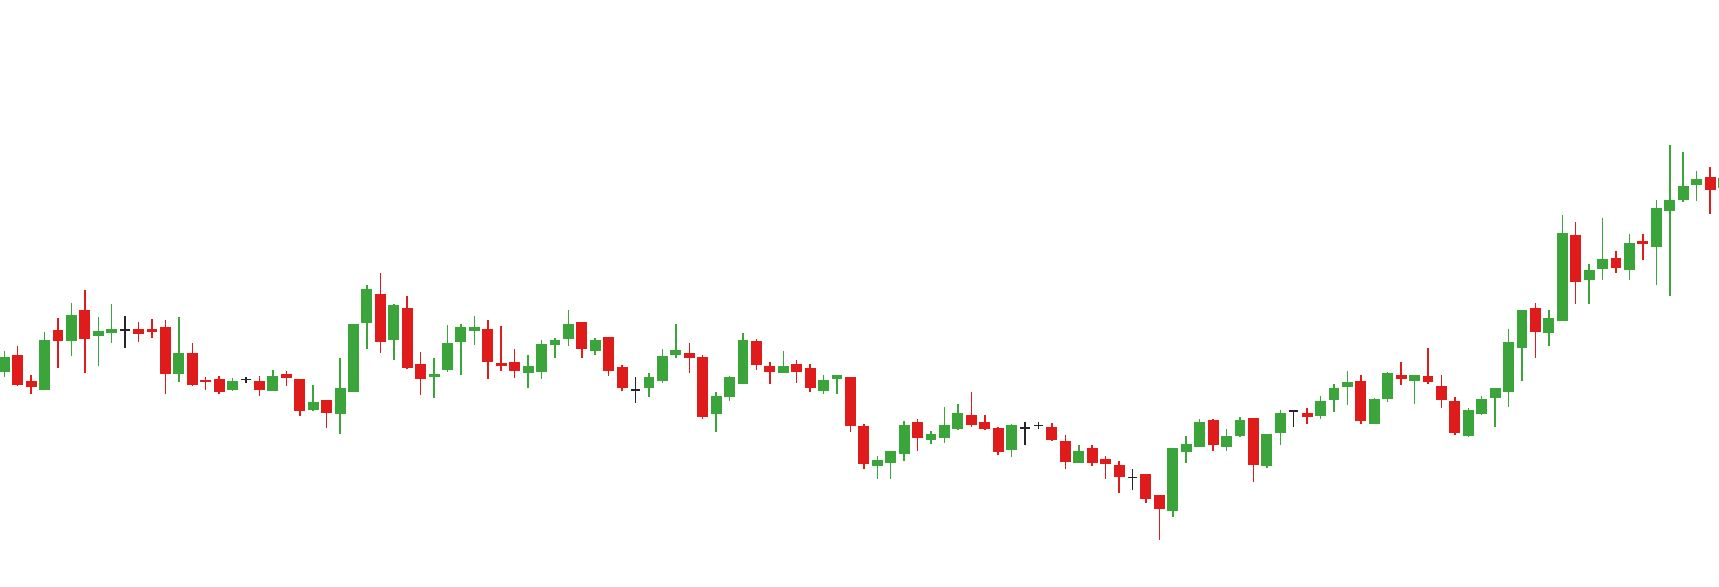buy: (1353, 373, 1475, 444)
sell: (160, 274, 389, 379), (468, 309, 590, 369)
